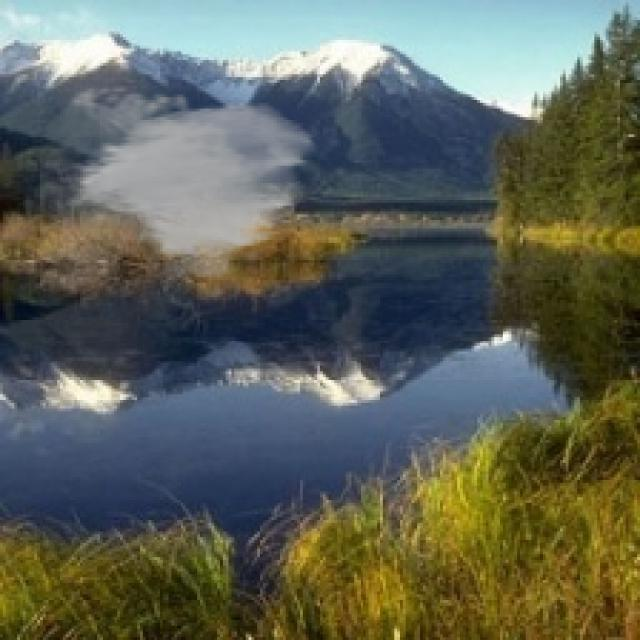smoke: (40, 80, 320, 286)
